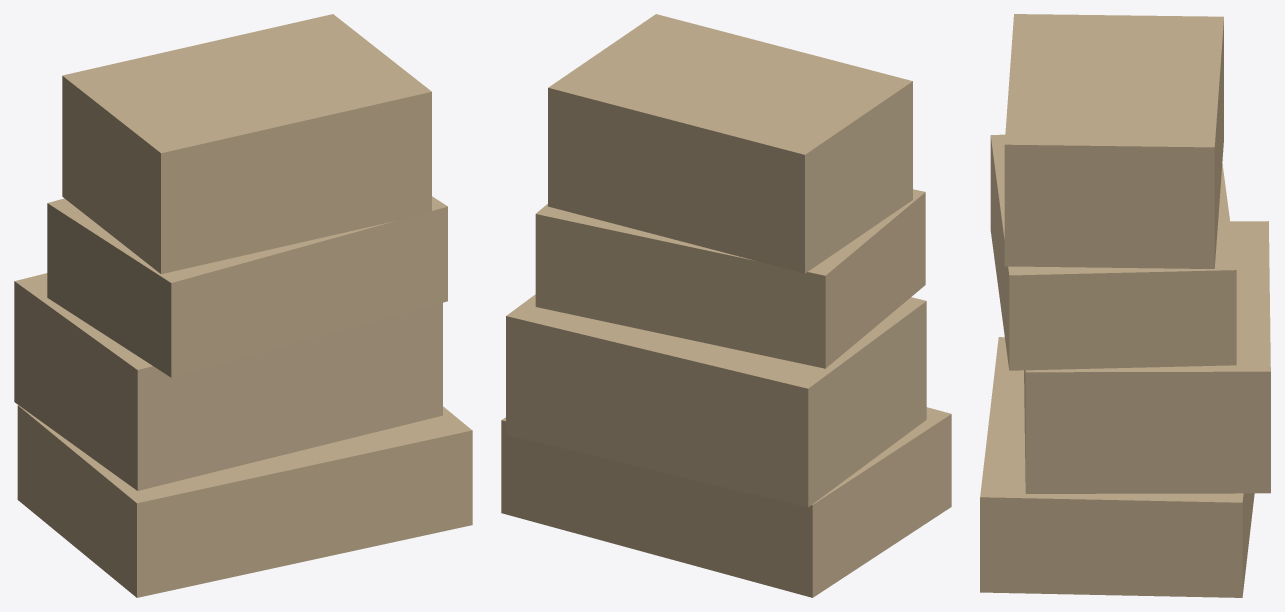
The model's file is cardboard_stack_05.glb.
The picture shows the model from 3 angles, left to right: view 1: azimuth 30°, elevation 25°; view 2: azimuth 150°, elevation 25°; view 3: azimuth 270°, elevation 25°; orthographic projection. The views are drawn at different scales.
Visible parts, largest first — view 1: box3, box1, box0, box2; view 2: box3, box1, box0, box2; view 3: box3, box1, box0, box2.
Boxes of the visible parts, <box> form: box3: <box>62,14,431,274</box>; box1: <box>14,273,442,490</box>; box0: <box>17,405,472,597</box>; box2: <box>47,196,447,377</box>; box3: <box>548,14,912,273</box>; box1: <box>506,294,926,507</box>; box0: <box>501,407,951,597</box>; box2: <box>535,189,925,368</box>; box3: <box>1004,14,1223,268</box>; box1: <box>1024,221,1270,493</box>; box0: <box>980,337,1254,597</box>; box2: <box>990,134,1236,370</box>.
Size of the model in its own units: 0.6712 by 0.82 by 0.498.
